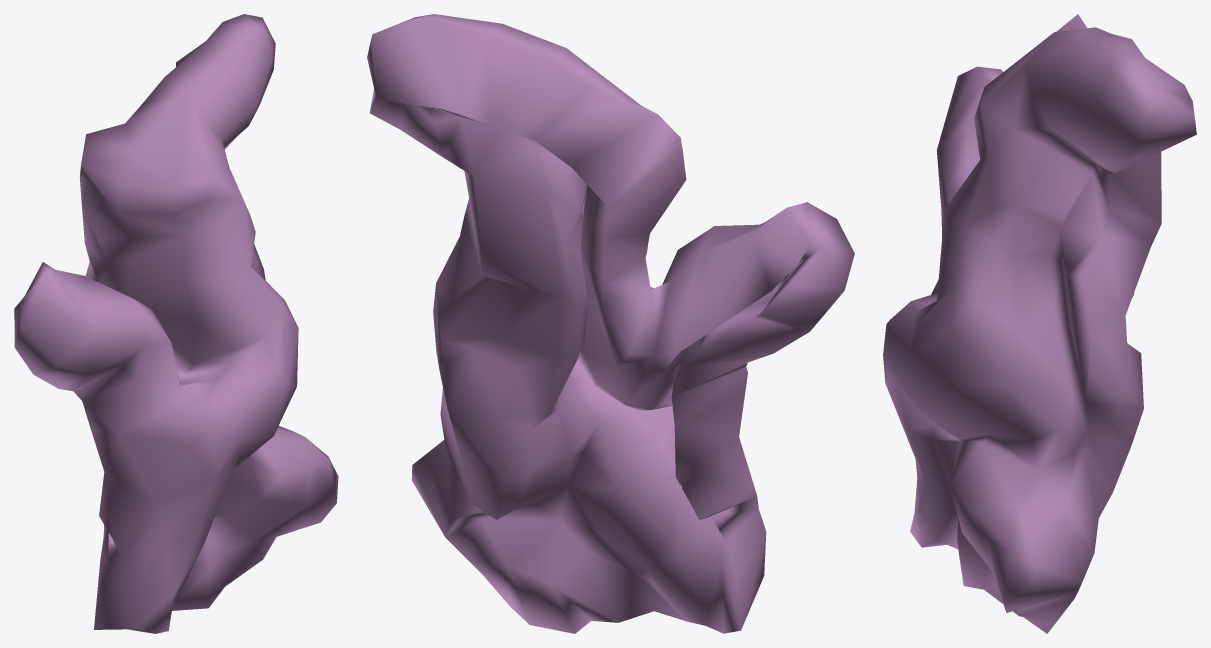
The picture shows the model from 3 angles, left to right: view 1: azimuth 30°, elevation 25°; view 2: azimuth 150°, elevation 25°; view 3: azimuth 270°, elevation 25°; orthographic projection. The views are drawn at different scales.
Parts seen in each view (by area): view 1: 右侧眶沟（H形眶沟）; view 2: 右侧眶沟（H形眶沟）; view 3: 右侧眶沟（H形眶沟）.
Part boxes in pixels (bbox=[...]): 右侧眶沟（H形眶沟）: bbox=[14, 14, 338, 633]; 右侧眶沟（H形眶沟）: bbox=[367, 14, 854, 633]; 右侧眶沟（H形眶沟）: bbox=[883, 14, 1196, 633].
Size of the model in its own units: 0.0419 by 0.0612 by 0.0282.
